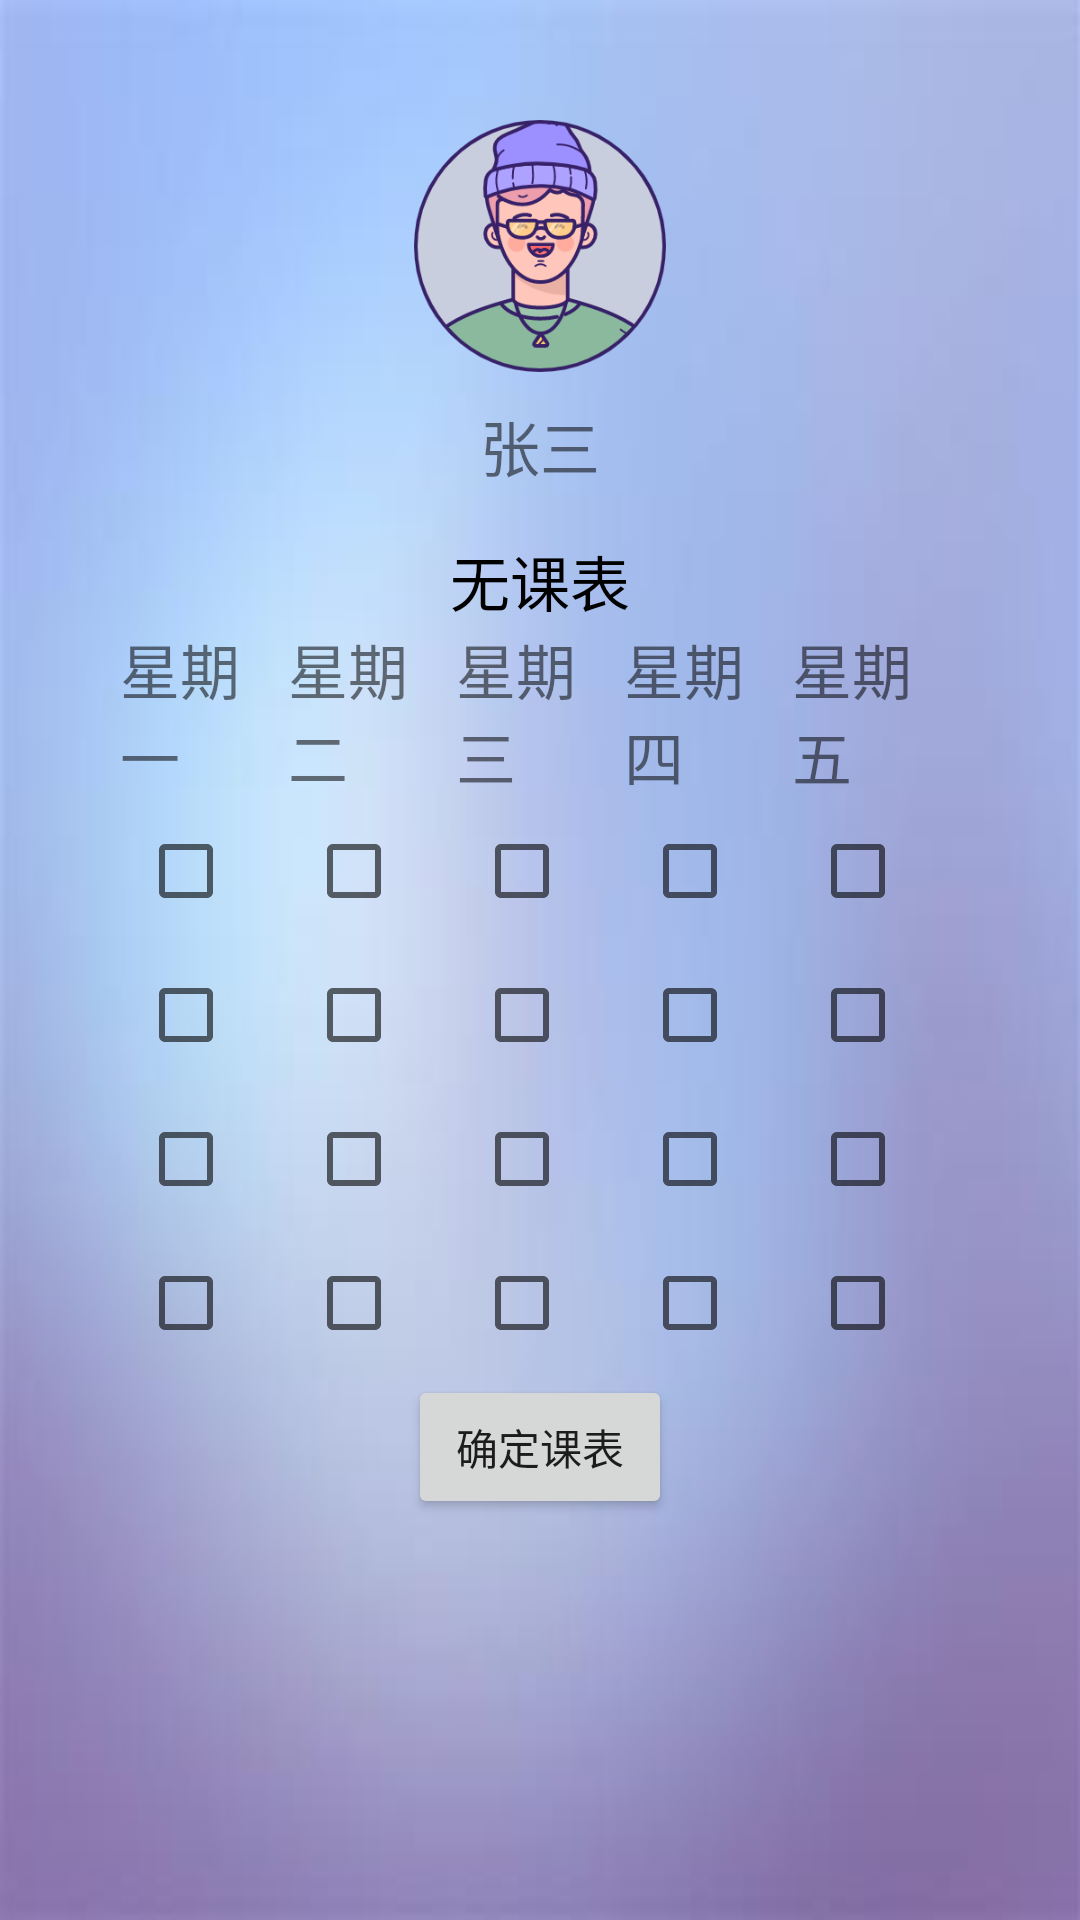

Named icons in this screenshot (1080 x 1920) and their bounding boxes, [x1=x1, y1=y1, x2=x2, y2=y2]:
head: [x1=414, y1=120, x2=666, y2=372]
